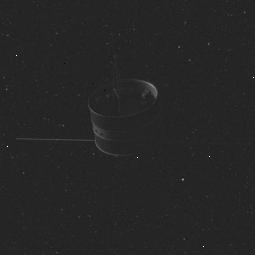double_start: (75, 70, 180, 162)
